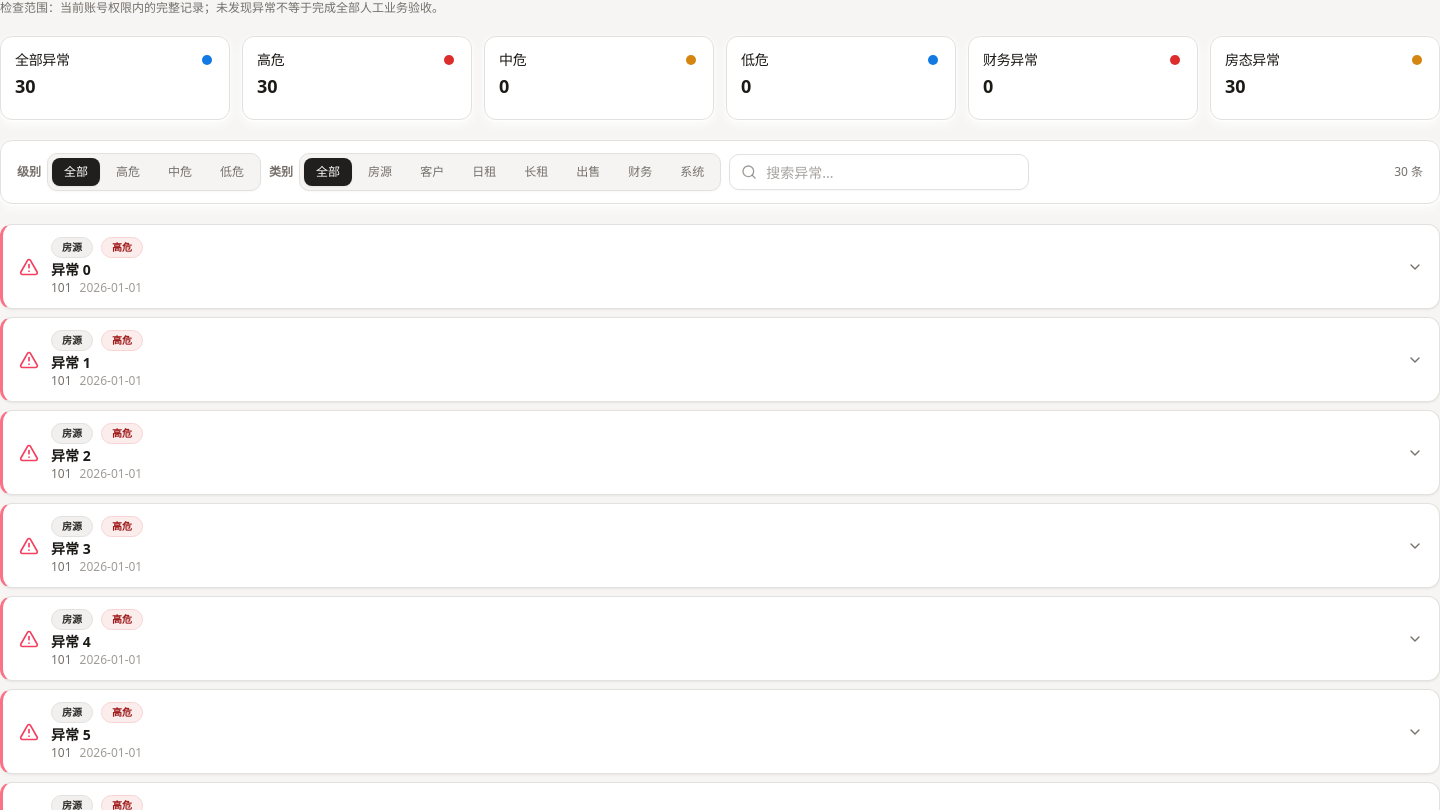
Scenario: honest quality states › supports keyboard-native expansion and complete paginated findings
Click the button "异常 0" at coordinates (71, 270), box [51,260,1395,280]
(page scrolled)
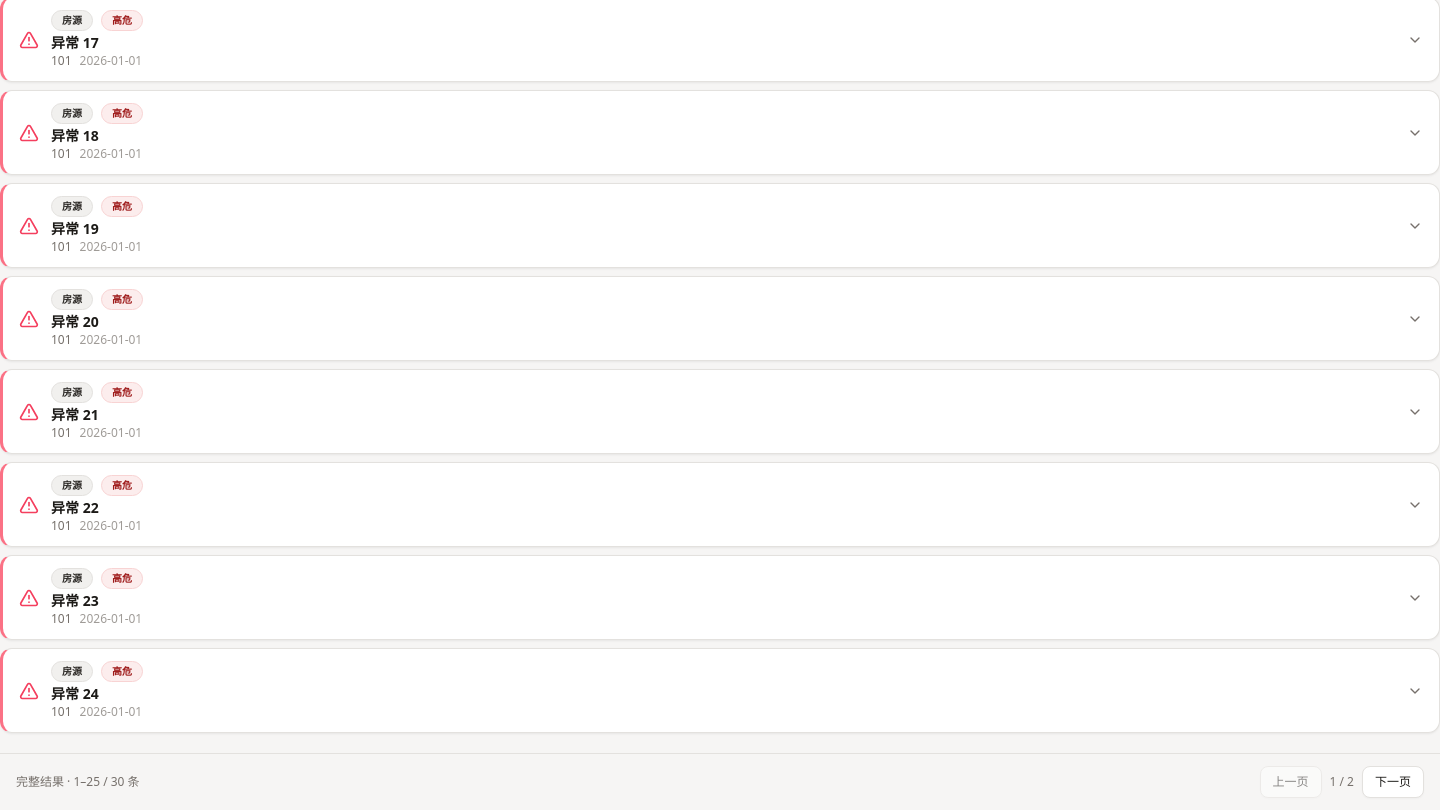
Click the button "下一页" at coordinates (1393, 782), box [1362,766,1424,798]
(page scrolled)
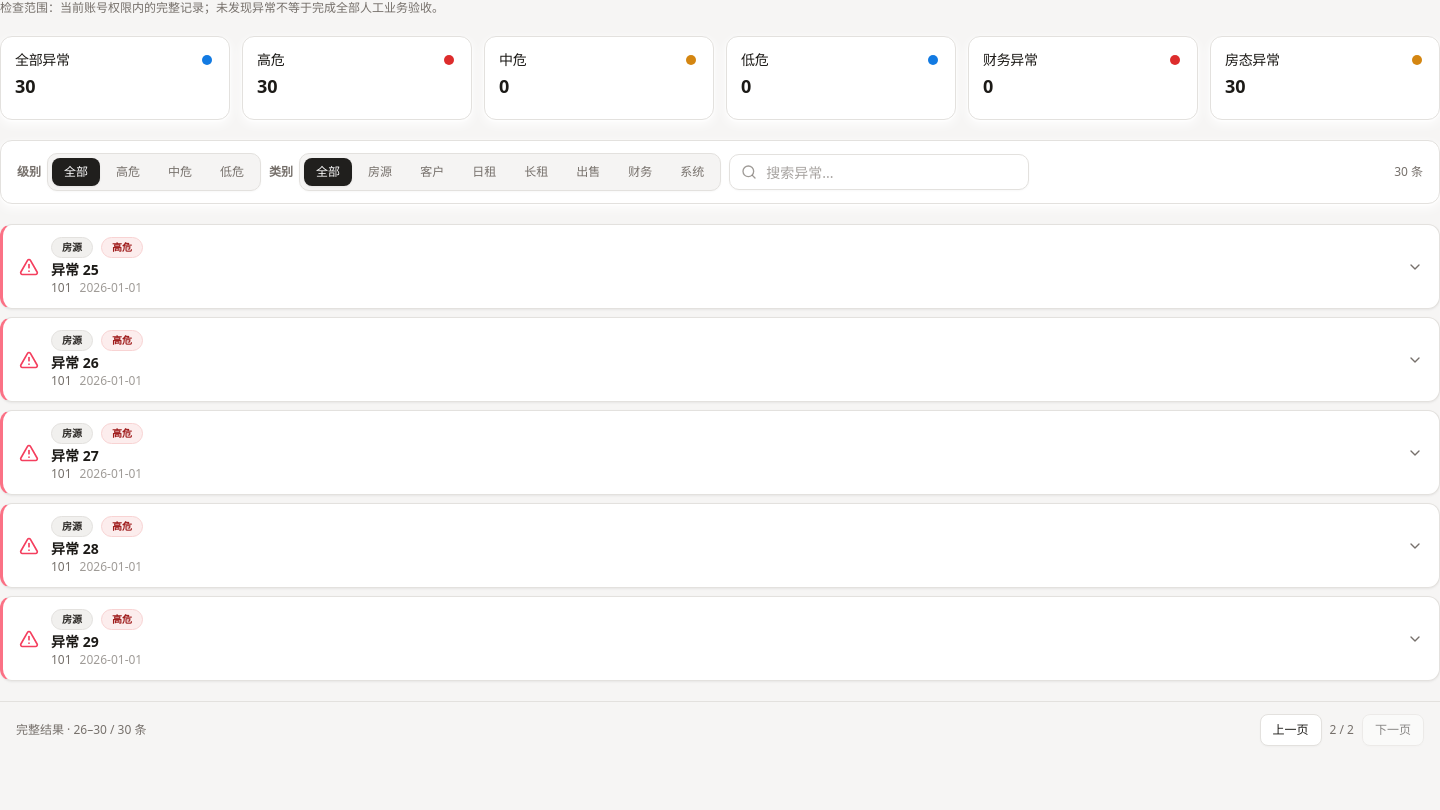
Result: the text "26–30 / 30" is shown at [16,721,146,738]
